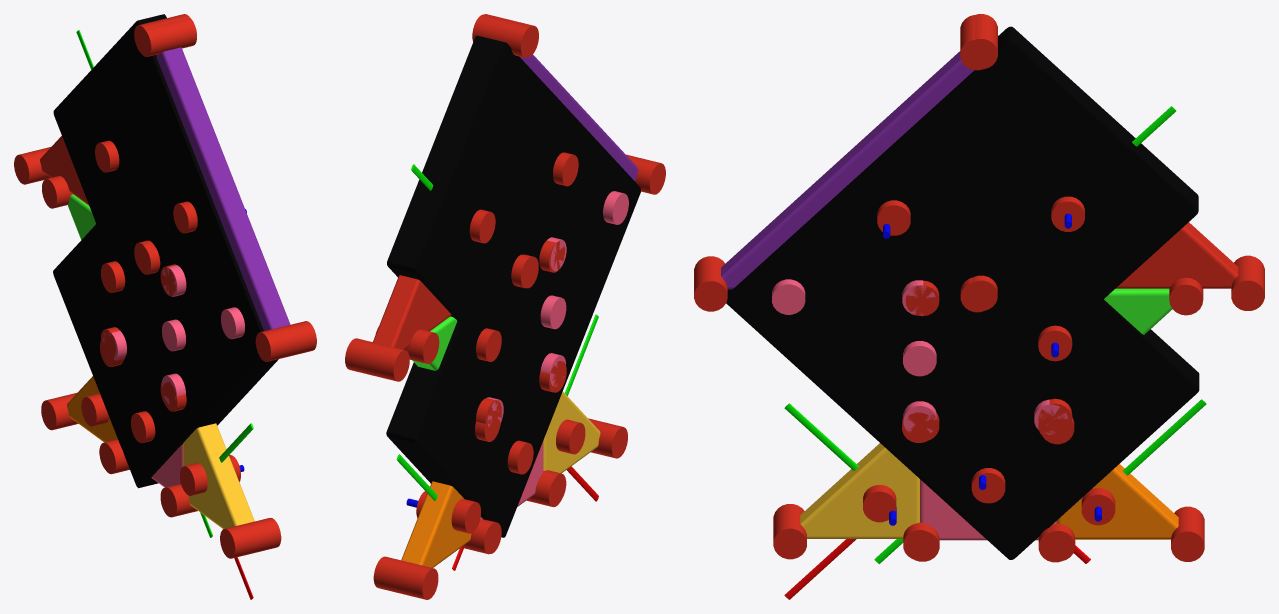
The model's file is Template Fish.fbx.
3 views of the same model, side by side, from view 1: azimuth 30°, elevation 25°; view 2: azimuth 150°, elevation 25°; view 3: azimuth 270°, elevation 25° (orthographic). The views are drawn at different scales.
Visible parts, largest first — view 1: Heart, Template_005, Template_001, ProximitySensor_2_4, ProximitySensor_2, ProximitySensor_3_4, Template_006, Template_003, ProximitySensor_3_5, ProximitySensor_0, ProximitySensor_3_2, Template_007 (+14 smaller); view 2: Heart, Template_003, Template_006, Template_001, ProximitySensor_3_2, ProximitySensor_3_5, Template_005, ProximitySensor_2_5, ProximitySensor_2, ProximitySensor_0_2, ProximitySensor_2_4, ProximitySensor_3_1 (+16 smaller); view 3: Heart, Template_005, Template_001, Template_003, Template_006, Template_002, Template_007, ProximitySensor_2, ProximitySensor_2_4, ProximitySensor_3_5, ProximitySensor_3_2, ProximitySensor_3_4 (+15 smaller).
Boxes of the visible parts, x1=… form: Heart: x1=53, y1=14, x2=278, y2=488; Template_005: x1=156, y1=47, x2=290, y2=330; Template_001: x1=183, y1=423, x2=254, y2=529; ProximitySensor_2_4: x1=255, y1=321, x2=316, y2=361; ProximitySensor_2: x1=220, y1=517, x2=281, y2=558; ProximitySensor_3_4: x1=136, y1=18, x2=196, y2=56; Template_006: x1=40, y1=136, x2=88, y2=205; Template_003: x1=67, y1=376, x2=117, y2=442; ProximitySensor_3_5: x1=14, y1=147, x2=50, y2=184; ProximitySensor_0: x1=180, y1=455, x2=240, y2=495; ProximitySensor_3_2: x1=41, y1=393, x2=78, y2=430; Template_007: x1=151, y1=444, x2=183, y2=487; Heart: x1=386, y1=35, x2=641, y2=537; Template_003: x1=401, y1=481, x2=471, y2=567; Template_006: x1=373, y1=275, x2=451, y2=349; Template_001: x1=543, y1=391, x2=600, y2=473; ProximitySensor_3_2: x1=373, y1=556, x2=438, y2=599; ProximitySensor_3_5: x1=345, y1=338, x2=409, y2=381; Template_005: x1=520, y1=54, x2=638, y2=181; ProximitySensor_2_5: x1=472, y1=14, x2=531, y2=57; ProximitySensor_2: x1=588, y1=418, x2=627, y2=458; ProximitySensor_0_2: x1=416, y1=491, x2=480, y2=533; ProximitySensor_2_4: x1=626, y1=154, x2=665, y2=194; ProximitySensor_3_1: x1=375, y1=327, x2=439, y2=363; Heart: x1=726, y1=26, x2=1199, y2=559; Template_005: x1=721, y1=51, x2=974, y2=289; Template_001: x1=800, y1=443, x2=919, y2=538; Template_003: x1=1057, y1=464, x2=1178, y2=539; Template_006: x1=1116, y1=222, x2=1238, y2=288; Template_002: x1=1104, y1=288, x2=1172, y2=334; Template_007: x1=920, y1=479, x2=1056, y2=540; ProximitySensor_2: x1=773, y1=504, x2=806, y2=559; ProximitySensor_2_4: x1=694, y1=256, x2=727, y2=311; ProximitySensor_3_5: x1=1231, y1=255, x2=1264, y2=310; ProximitySensor_3_2: x1=1171, y1=506, x2=1204, y2=561; ProximitySensor_3_4: x1=960, y1=15, x2=993, y2=70.
Bounding box in the file's own units: 180 × 1450 × 1308.
